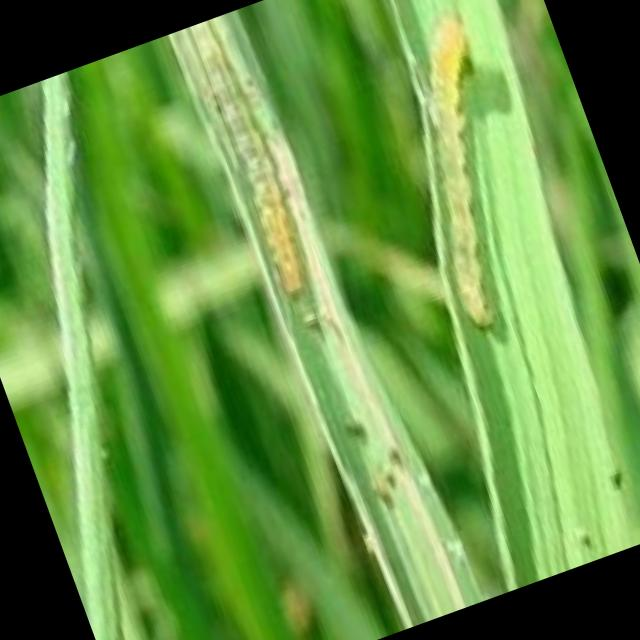leaf-folder: (346, 0, 587, 370), (147, 15, 359, 360)
